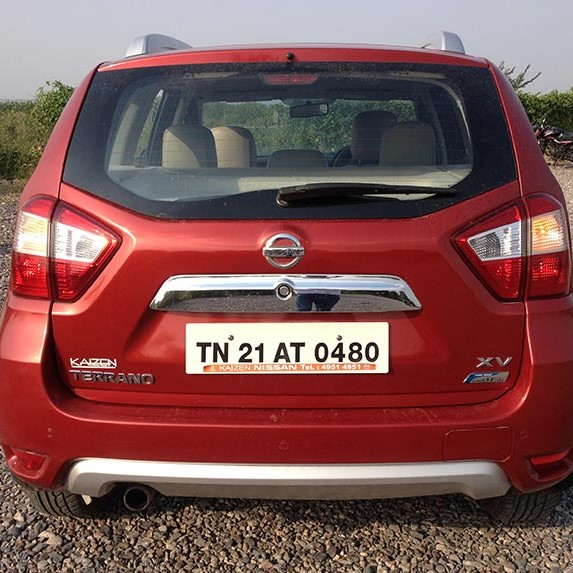TN21AT0480: (186, 321, 390, 373)
